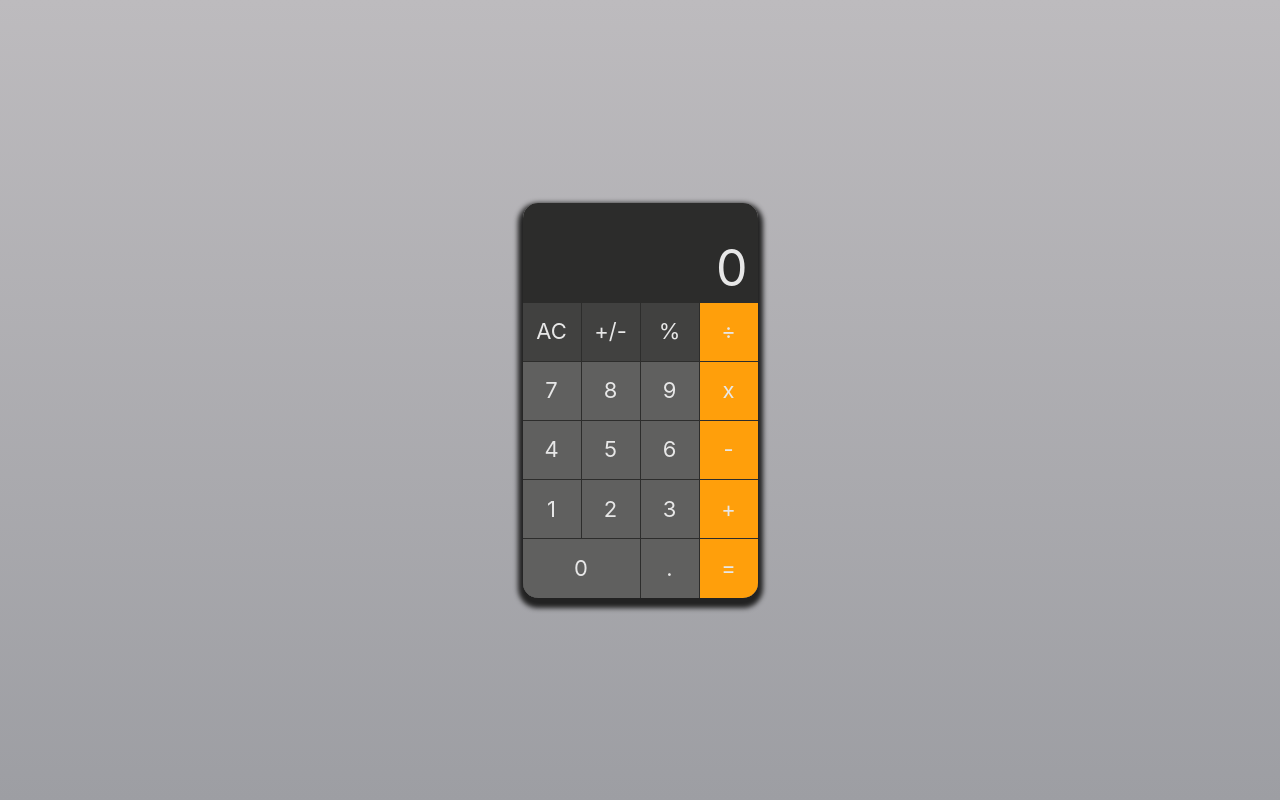
Test case: Calculator app › should handle division of two numbers
This screenshot has width=1280, height=800.
Click the button "1" at [552, 509], box [522,480,580,538]
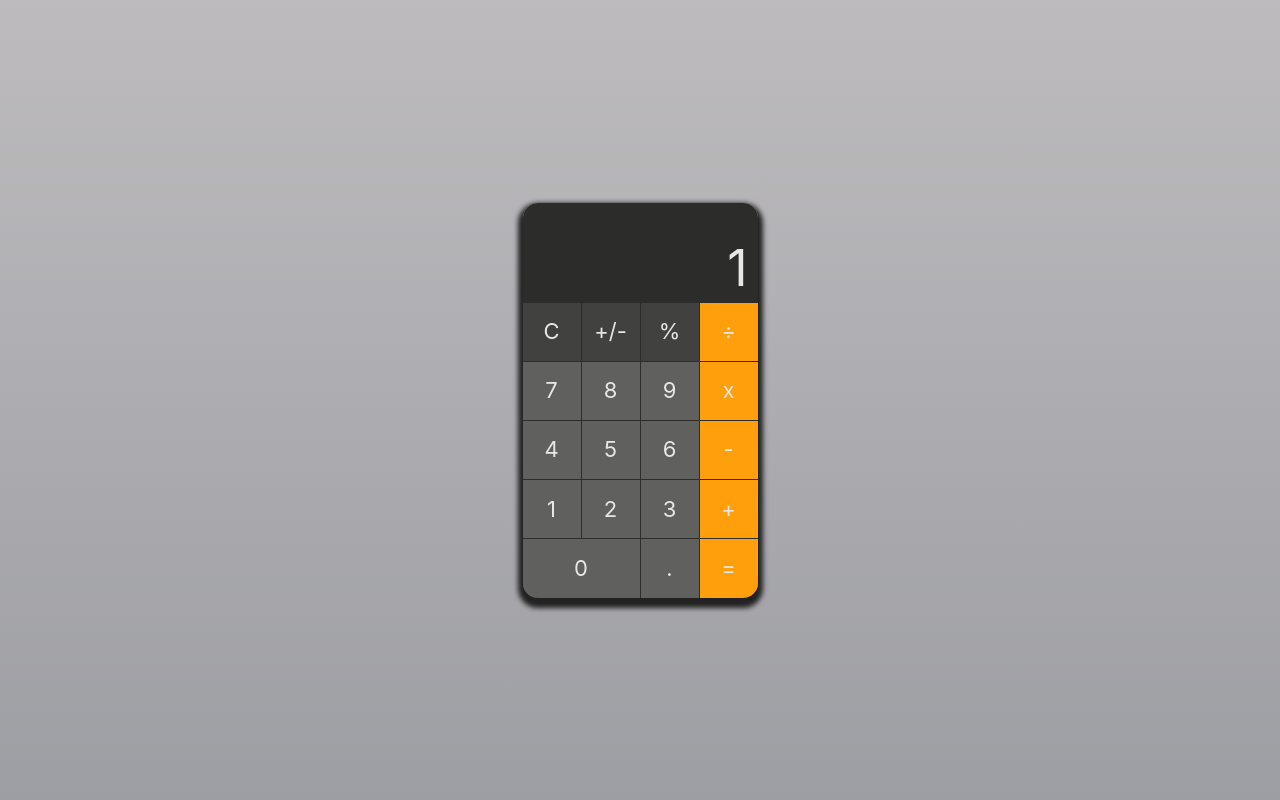
Click the button "÷" at [728, 332], box [700,302,758,361]
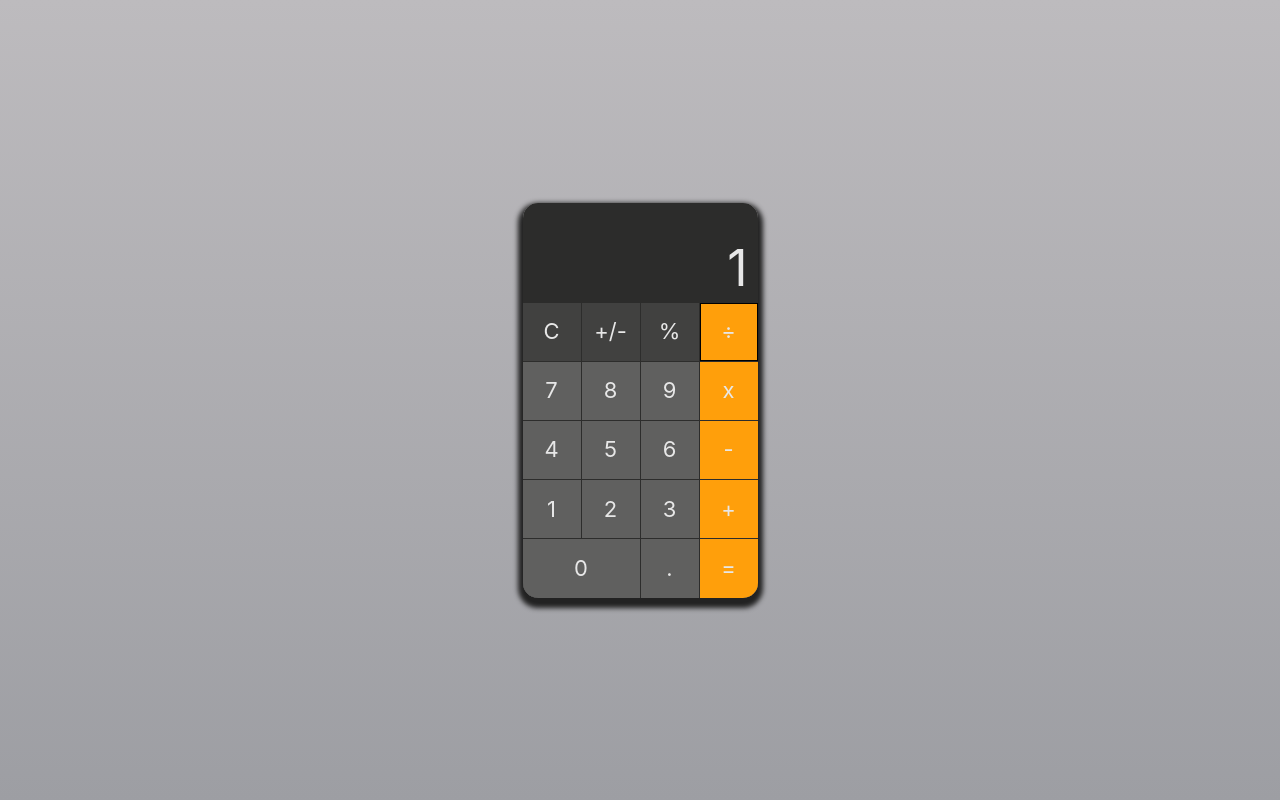
Click the button "2" at [610, 509], box [582,480,640,538]
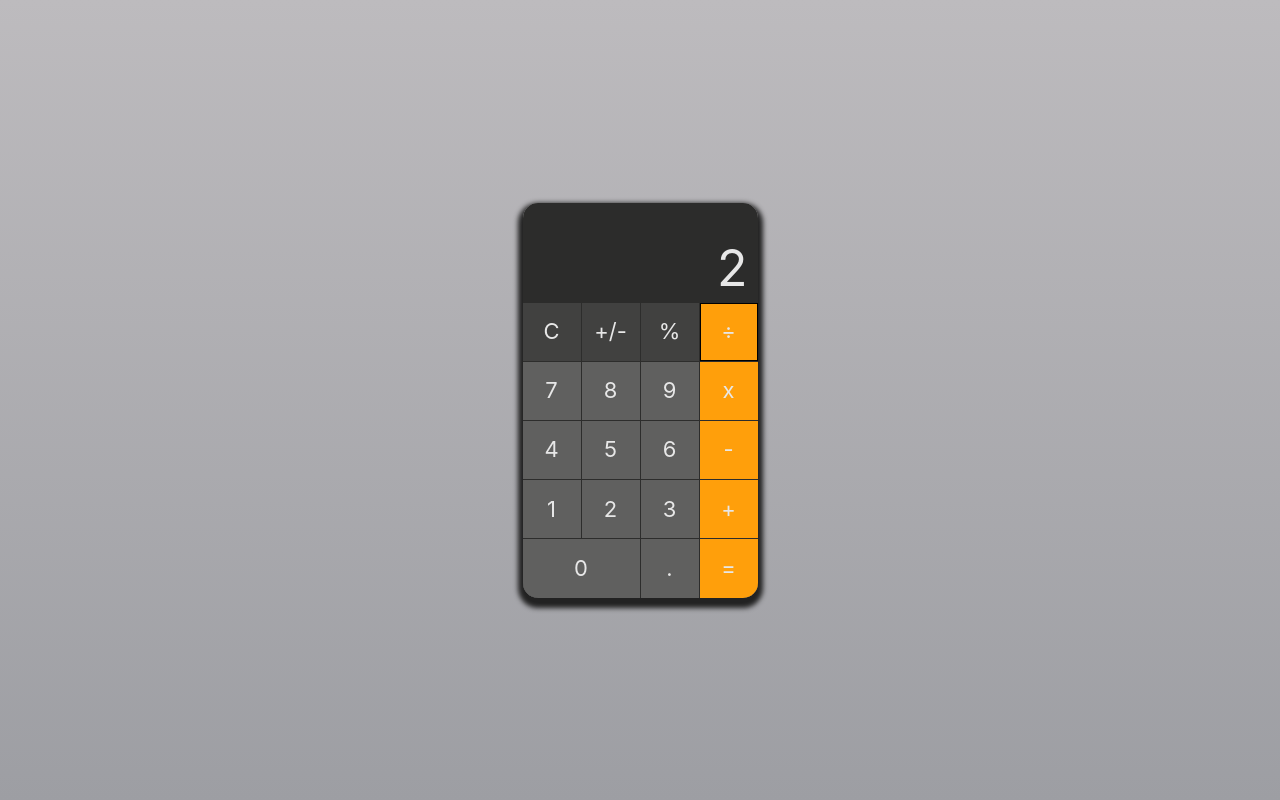
Click the button "=" at [728, 568], box [700,539,758,598]
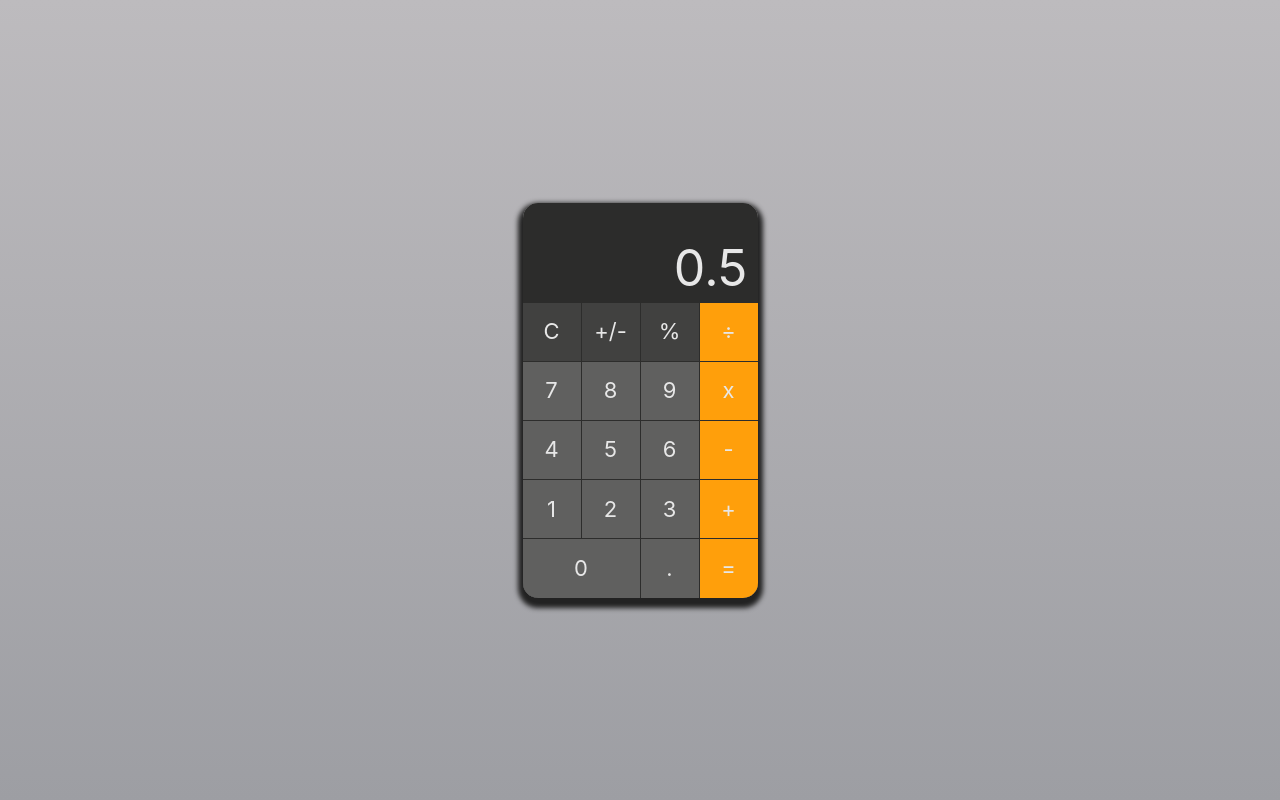
Result: the text "0.5" is shown at [522,202,758,302]
